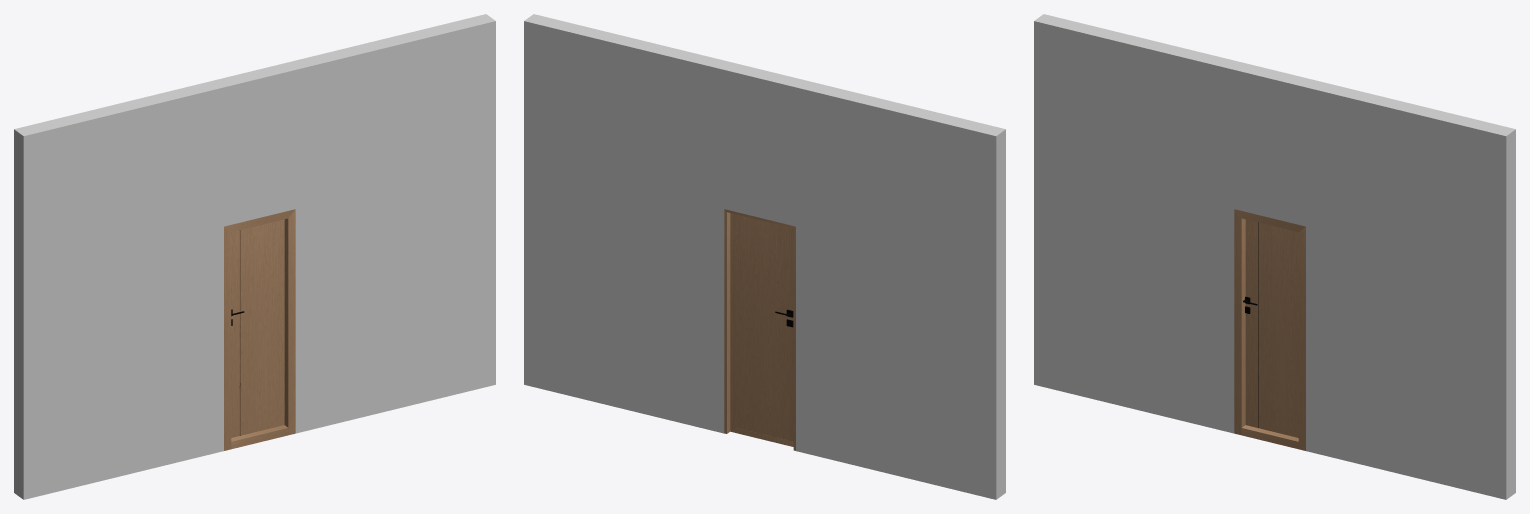
The picture shows the model from 3 angles, left to right: view 1: azimuth 30°, elevation 25°; view 2: azimuth 150°, elevation 25°; view 3: azimuth 330°, elevation 25°; orthographic projection.
Visible parts, largest first — view 1: wall_, _3b_door_.004, _3b_90_60_frame, _3b_threshold_; view 2: wall_, _3b_door_.004, _3b_jamb, _3b_90_60_frame; view 3: wall_, _3b_door_.004, _3b_90_60_frame, _3b_threshold_.
Part boxes in pixels (x1,y1,x2,y2): wall_: [14, 14, 495, 499]; _3b_door_.004: [231, 219, 284, 437]; _3b_90_60_frame: [224, 209, 295, 450]; _3b_threshold_: [231, 425, 288, 449]; wall_: [524, 14, 1005, 499]; _3b_door_.004: [733, 213, 793, 441]; _3b_jamb: [724, 209, 795, 450]; _3b_90_60_frame: [730, 213, 732, 432]; wall_: [1034, 14, 1515, 499]; _3b_door_.004: [1243, 219, 1298, 437]; _3b_90_60_frame: [1234, 209, 1305, 450]; _3b_threshold_: [1241, 425, 1298, 449].
Bounding box in the file's own units: 3.96 × 2.92 × 0.1405.
Materials: 3 (2 with a texture image).
